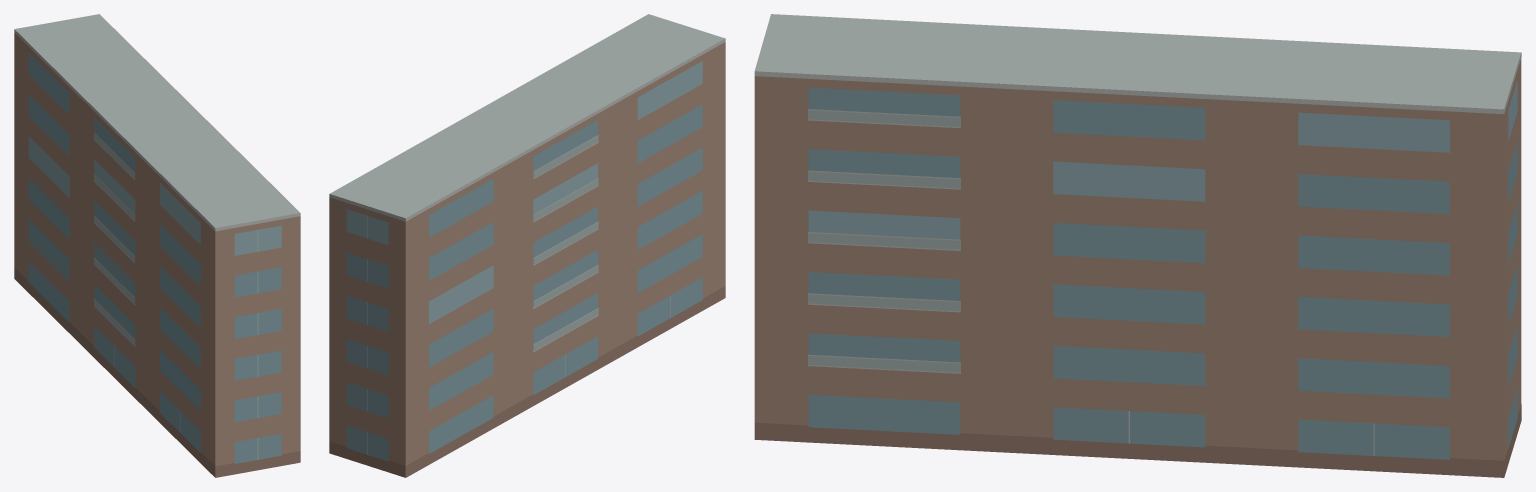
File: survey-upis-32564241.glb
The picture shows the model from 3 angles, left to right: view 1: azimuth 30°, elevation 25°; view 2: azimuth 150°, elevation 25°; view 3: azimuth 270°, elevation 25°; orthographic projection. The views are drawn at different scales.
Visible parts, largest first — view 1: survey-upis-32564241.tmp; view 2: survey-upis-32564241.tmp; view 3: survey-upis-32564241.tmp.
Part boxes in pixels (x1=…): survey-upis-32564241.tmp: x1=14, y1=14, x2=300, y2=477; survey-upis-32564241.tmp: x1=329, y1=14, x2=725, y2=477; survey-upis-32564241.tmp: x1=754, y1=14, x2=1521, y2=477.
Size of the model in its own units: 10.46 by 18.8 by 35.48.
